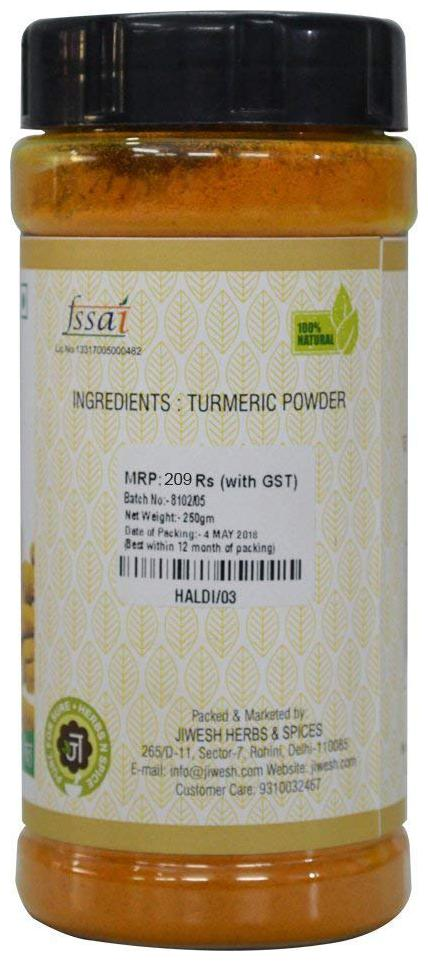fssai: (60, 293, 132, 340)
